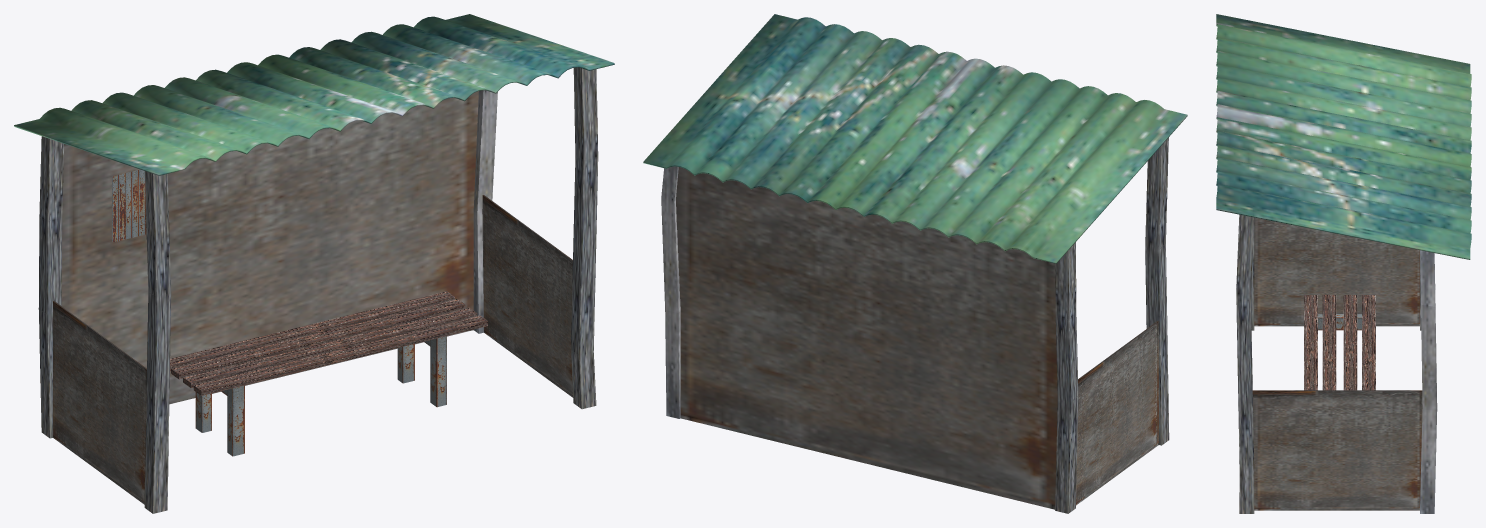
Rendered from BusStation.obj.
3 renders of one model, left to right at view 1: azimuth 30°, elevation 25°; view 2: azimuth 150°, elevation 25°; view 3: azimuth 270°, elevation 25°, orthographic. The views are drawn at different scales.
Visible parts, largest first — view 1: Plane.024, Cube.047; view 2: Plane.024; view 3: Plane.024, Cube.047.
Boxes of the visible parts, x1,y1,x2,y2 form: Plane.024: [14, 14, 614, 513]; Cube.047: [170, 291, 487, 456]; Plane.024: [643, 14, 1187, 513]; Plane.024: [1216, 14, 1471, 513]; Cube.047: [1304, 295, 1375, 390].
Size of the model in its own units: 4.54 by 3.4 by 2.52.
